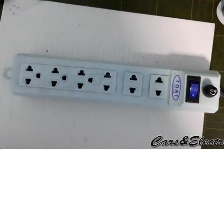three_eye_plug: (6, 49, 222, 115)
